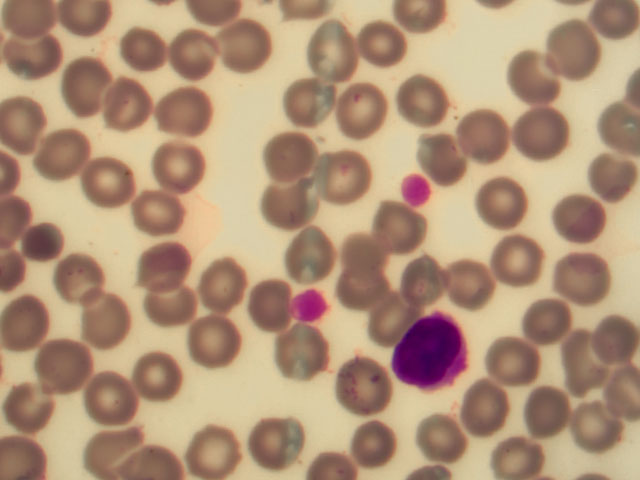Platelets: (399, 171, 431, 206), (290, 290, 326, 321)
RBC: (59, 59, 115, 112), (92, 74, 148, 127), (157, 86, 213, 139), (118, 26, 174, 79), (162, 24, 218, 77), (220, 16, 276, 69), (163, 136, 219, 189), (141, 179, 197, 232), (79, 161, 135, 214), (38, 139, 94, 192), (6, 100, 62, 153), (5, 35, 61, 88), (26, 217, 82, 270), (45, 242, 101, 295), (35, 339, 91, 392), (69, 291, 125, 344), (82, 366, 138, 419), (7, 379, 63, 432), (87, 427, 143, 480), (131, 349, 187, 402), (189, 317, 245, 370), (143, 286, 199, 339), (136, 248, 192, 301), (202, 259, 258, 312), (237, 280, 293, 333), (271, 325, 327, 378), (338, 363, 394, 416), (342, 427, 398, 480), (231, 416, 287, 469), (195, 427, 251, 480), (275, 237, 331, 290), (257, 182, 313, 235), (263, 125, 319, 178), (280, 77, 336, 130), (299, 26, 355, 79), (355, 16, 411, 69), (339, 80, 395, 133), (325, 147, 381, 200), (390, 76, 446, 129), (414, 126, 470, 179), (459, 108, 515, 161), (509, 107, 565, 160), (507, 55, 563, 108), (539, 25, 595, 78), (584, 145, 640, 198), (561, 193, 617, 246), (478, 177, 534, 230), (493, 229, 549, 282), (436, 254, 492, 307), (400, 254, 456, 307), (375, 203, 431, 256), (337, 230, 393, 283), (338, 255, 394, 308), (355, 286, 411, 339), (481, 333, 537, 386), (523, 292, 579, 345), (547, 253, 603, 306), (556, 332, 612, 385), (584, 308, 640, 361), (465, 384, 521, 437), (420, 405, 476, 458), (517, 381, 573, 434), (565, 393, 621, 446), (493, 427, 549, 480), (1, 300, 56, 353)
WBC: (394, 313, 470, 388)
